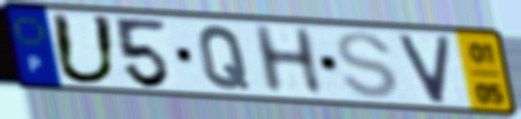5: (109, 14, 173, 90)
H: (248, 23, 328, 96)
Q: (195, 23, 253, 91)
S: (333, 30, 401, 101)
U: (47, 10, 122, 88)
V: (394, 32, 454, 106)
